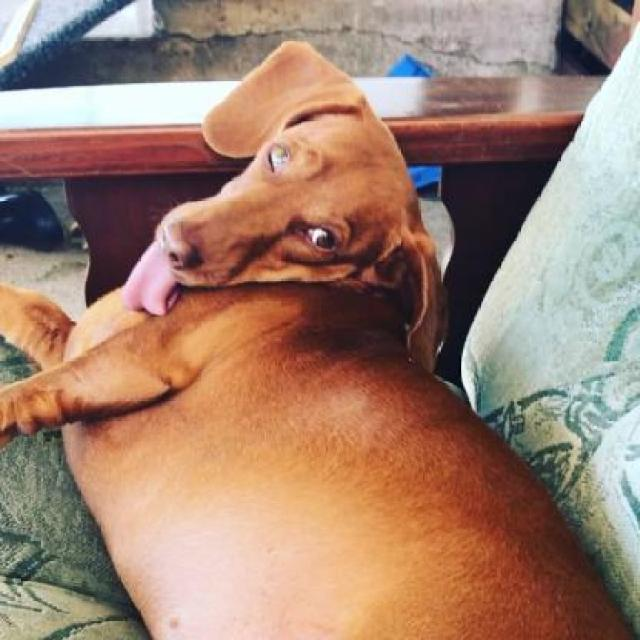Dog: (0, 32, 638, 638)
